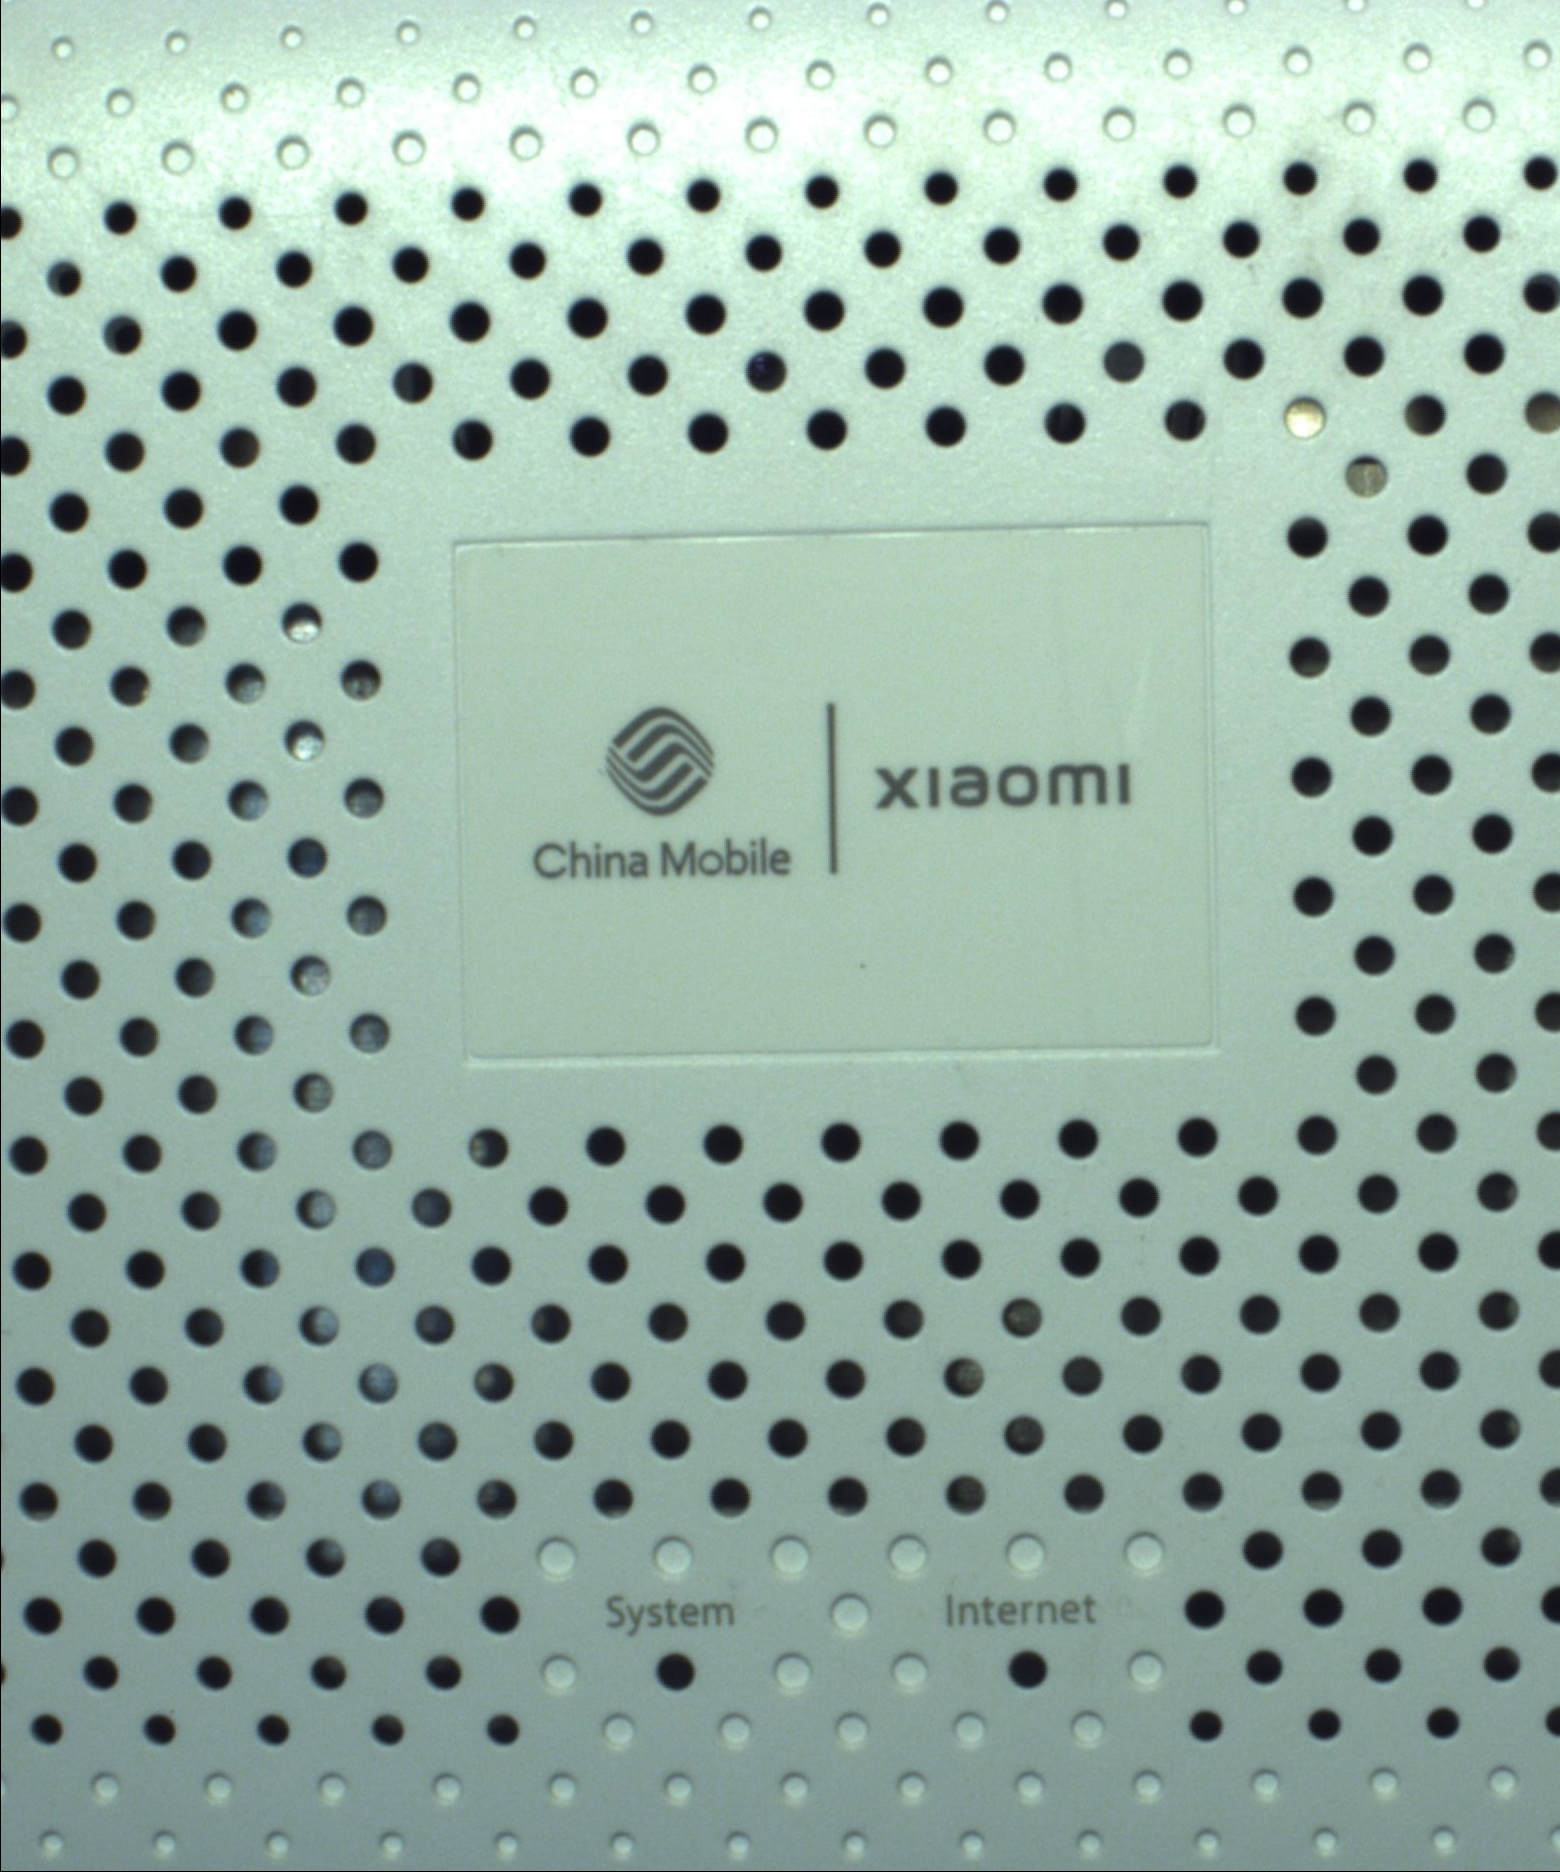MAD_ChinaMobile: (493, 697, 1162, 897)
